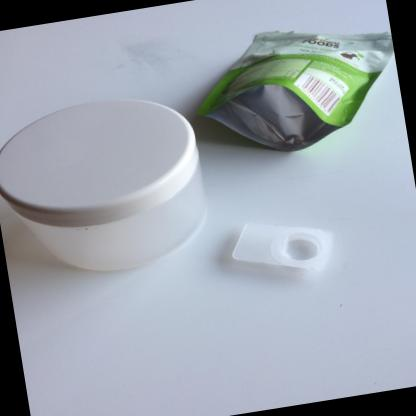Plastic: (0, 98, 206, 270), (196, 30, 394, 151), (232, 222, 335, 270)
